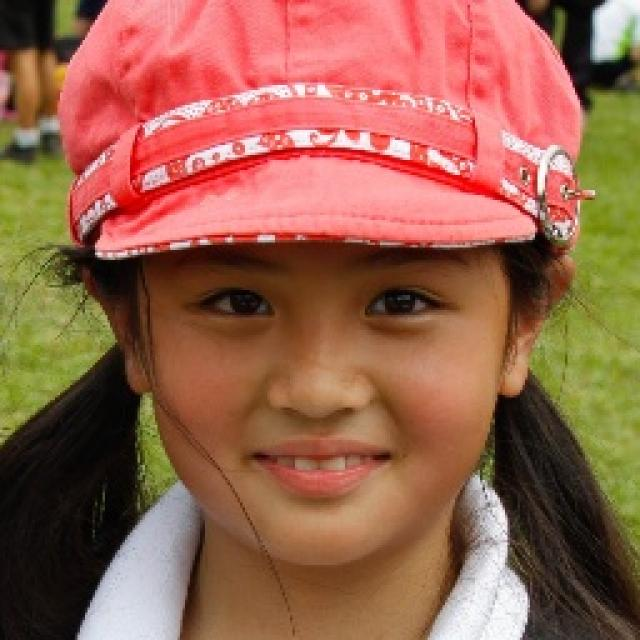earlobe: (498, 254, 576, 398), (82, 260, 151, 394)
